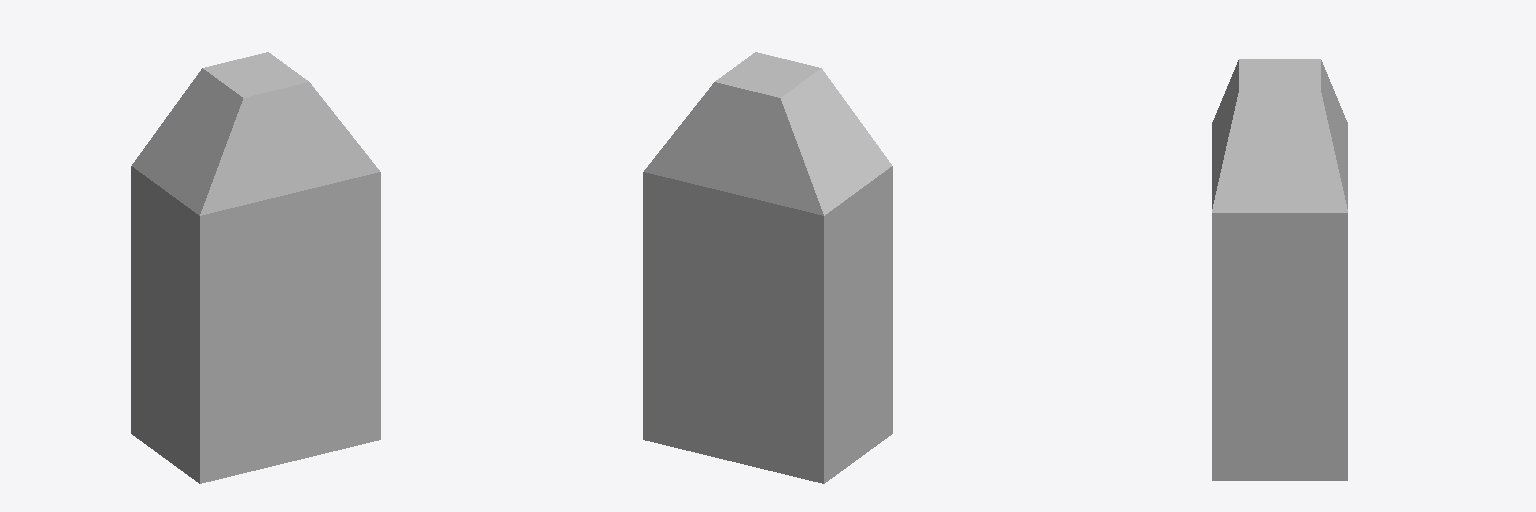
The model's file is ampul.obj.
3 renders of one model, left to right at view 1: azimuth 30°, elevation 25°; view 2: azimuth 150°, elevation 25°; view 3: azimuth 270°, elevation 25°, orthographic.
Parts seen in each view (by area): view 1: cube; view 2: cube; view 3: cube.
Part boxes in pixels (left/top/right/bottom): cube: left=131, top=52, right=380, bottom=483; cube: left=643, top=52, right=892, bottom=483; cube: left=1212, top=59, right=1347, bottom=480.
Size of the model in its own units: 0.1144 by 0.2188 by 0.075.